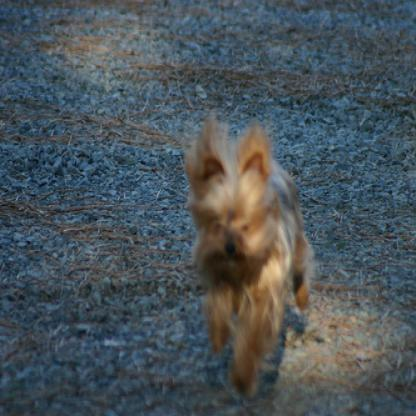dog: (183, 114, 315, 397)
